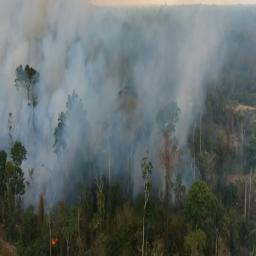Heavy smoke: (0, 0, 256, 206)
